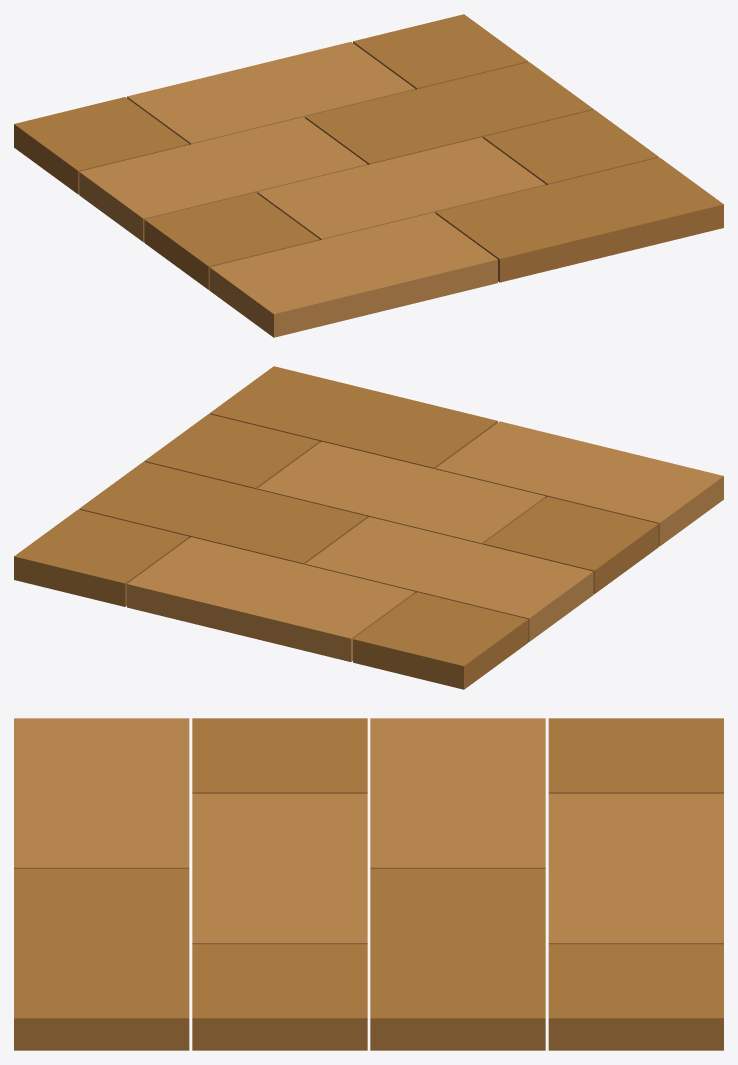
Rendered from floorParquetHoney.glb.
3 views of the same model, one above another, from view 1: azimuth 30°, elevation 25°; view 2: azimuth 150°, elevation 25°; view 3: azimuth 270°, elevation 25° (orthographic). The views are drawn at different scales.
Parts seen in each view (by area): view 1: floorParquetHoney; view 2: floorParquetHoney; view 3: floorParquetHoney.
Boxes of the visible parts, left/top/right/bottom form: floorParquetHoney: left=14, top=14, right=723, bottom=337; floorParquetHoney: left=14, top=366, right=723, bottom=689; floorParquetHoney: left=14, top=718, right=723, bottom=1050.
Size of the model in its own units: 1 by 0.05 by 1.
Materials: 1 (1 with a texture image).
